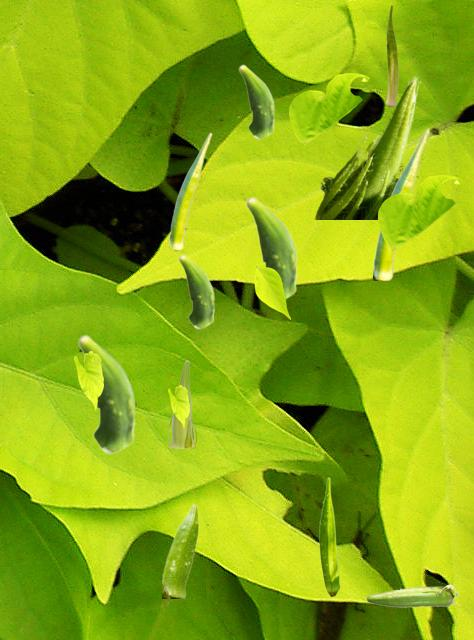okra: (314, 75, 420, 218), (373, 128, 428, 279), (77, 334, 135, 453), (245, 196, 297, 299), (169, 132, 211, 251), (162, 503, 198, 597), (178, 254, 214, 328), (238, 64, 274, 138), (167, 360, 195, 447), (319, 477, 339, 596), (366, 584, 458, 606), (386, 5, 397, 105)
